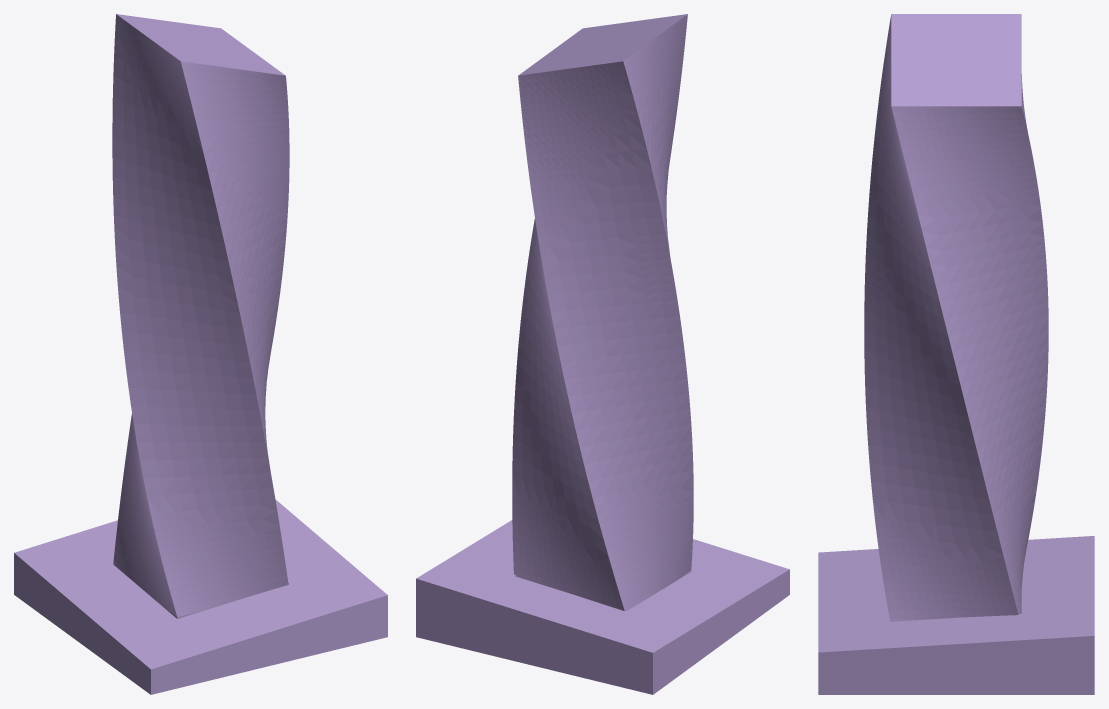
The model's file is island.fbx.
3 views of the same model, side by side, from view 1: azimuth 30°, elevation 25°; view 2: azimuth 150°, elevation 25°; view 3: azimuth 270°, elevation 25° (orthographic).
Parts seen in each view (by area): view 1: the_object; view 2: the_object; view 3: the_object.
Part boxes in pixels (<box>): the_object: <box>14,14,387,694</box>; the_object: <box>416,14,789,694</box>; the_object: <box>818,14,1094,694</box>.
Size of the model in its own units: 1024 by 2441 by 1024.
